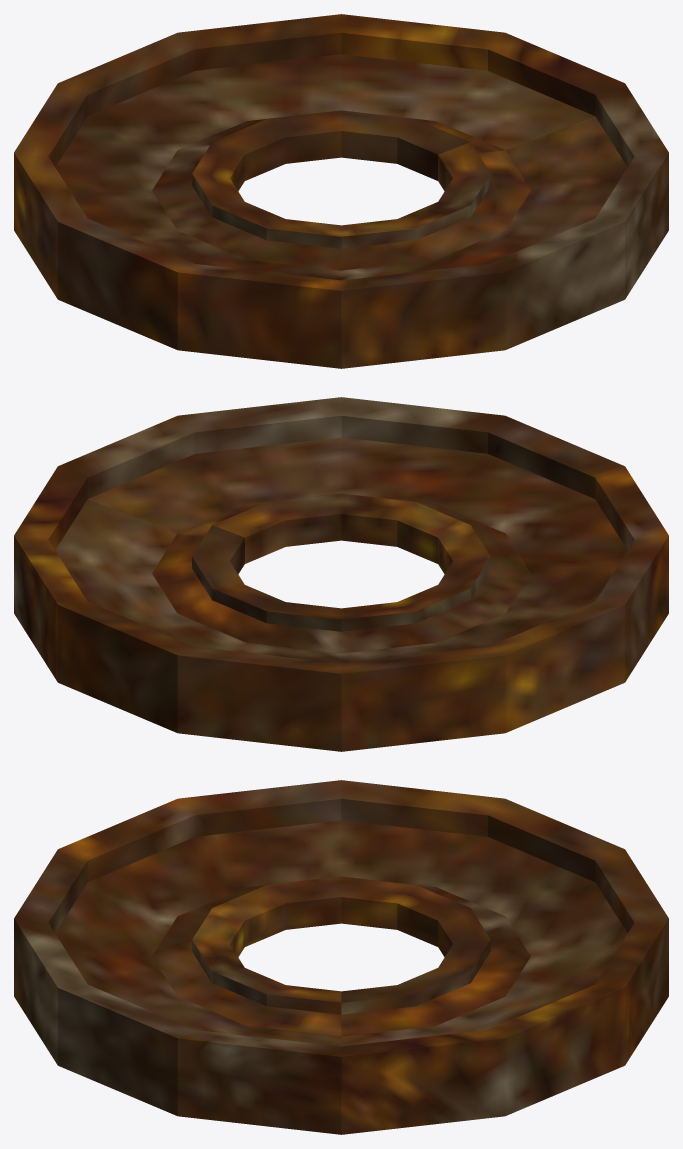
File: MOEDA_COMPRA.fbx
3 renders of one model, top to bottom at view 1: azimuth 30°, elevation 25°; view 2: azimuth 150°, elevation 25°; view 3: azimuth 270°, elevation 25°, orthographic.
Visible parts, largest first — view 1: Cylinder; view 2: Cylinder; view 3: Cylinder.
Part boxes in pixels (left/top/right/bottom): Cylinder: left=14, top=14, right=668, bottom=368; Cylinder: left=14, top=397, right=668, bottom=751; Cylinder: left=14, top=780, right=668, bottom=1134.
Size of the model in its own units: 200 by 26.26 by 200.
